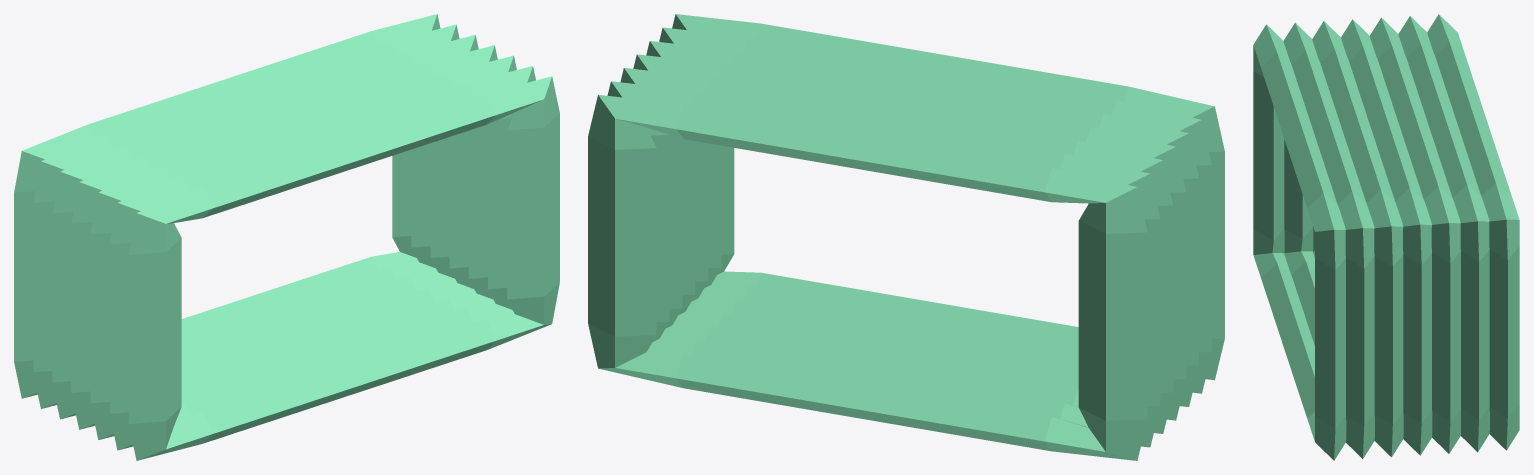
The model's file is Table1_UV.fbx.
3 renders of one model, left to right at view 1: azimuth 30°, elevation 25°; view 2: azimuth 150°, elevation 25°; view 3: azimuth 270°, elevation 25°, orthographic. The views are drawn at different scales.
Visible parts, largest first — view 1: Table1; view 2: Table1; view 3: Table1.
Part boxes in pixels (x1,y1,x2,y2): Table1: (14,14,559,460); Table1: (588,14,1224,460); Table1: (1253,14,1519,460).
Size of the model in its own units: 141 by 70.51 by 70.95.
